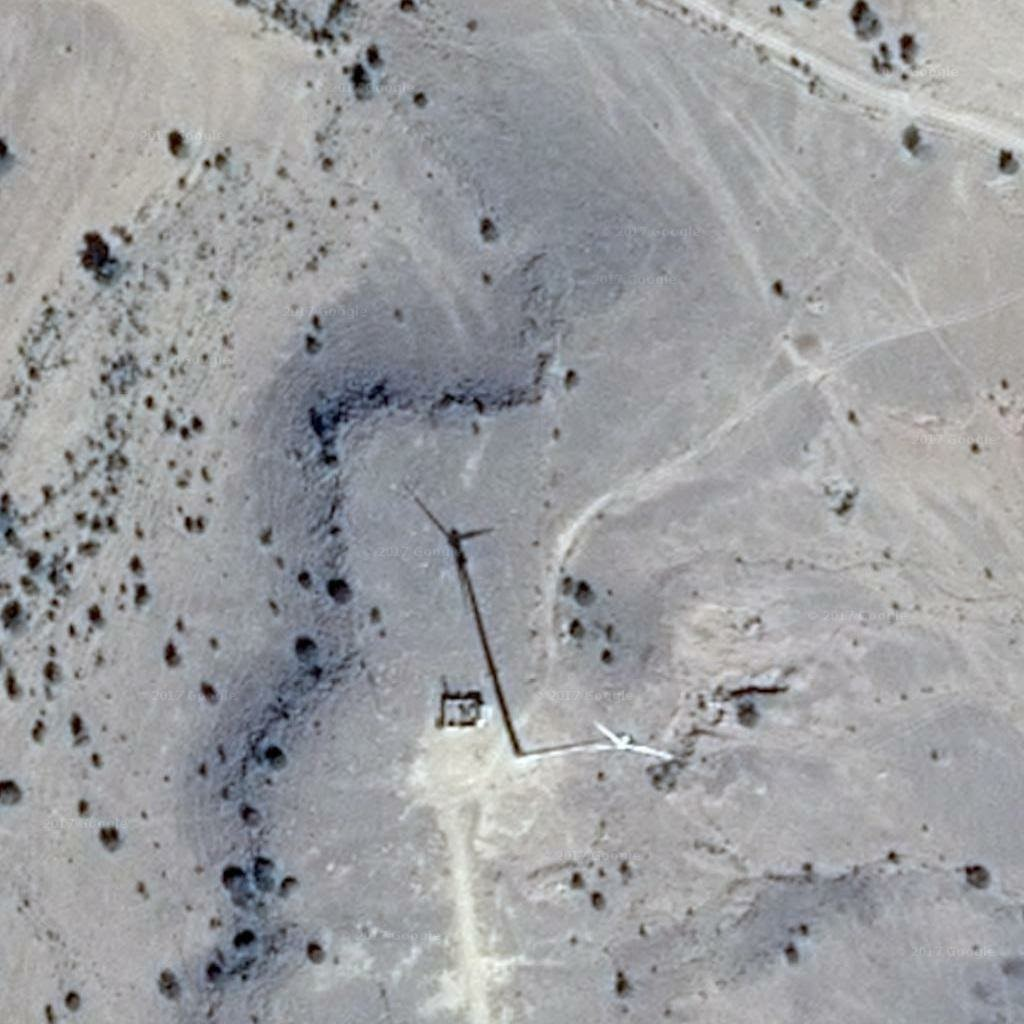Windmill: (395, 478, 530, 735)
